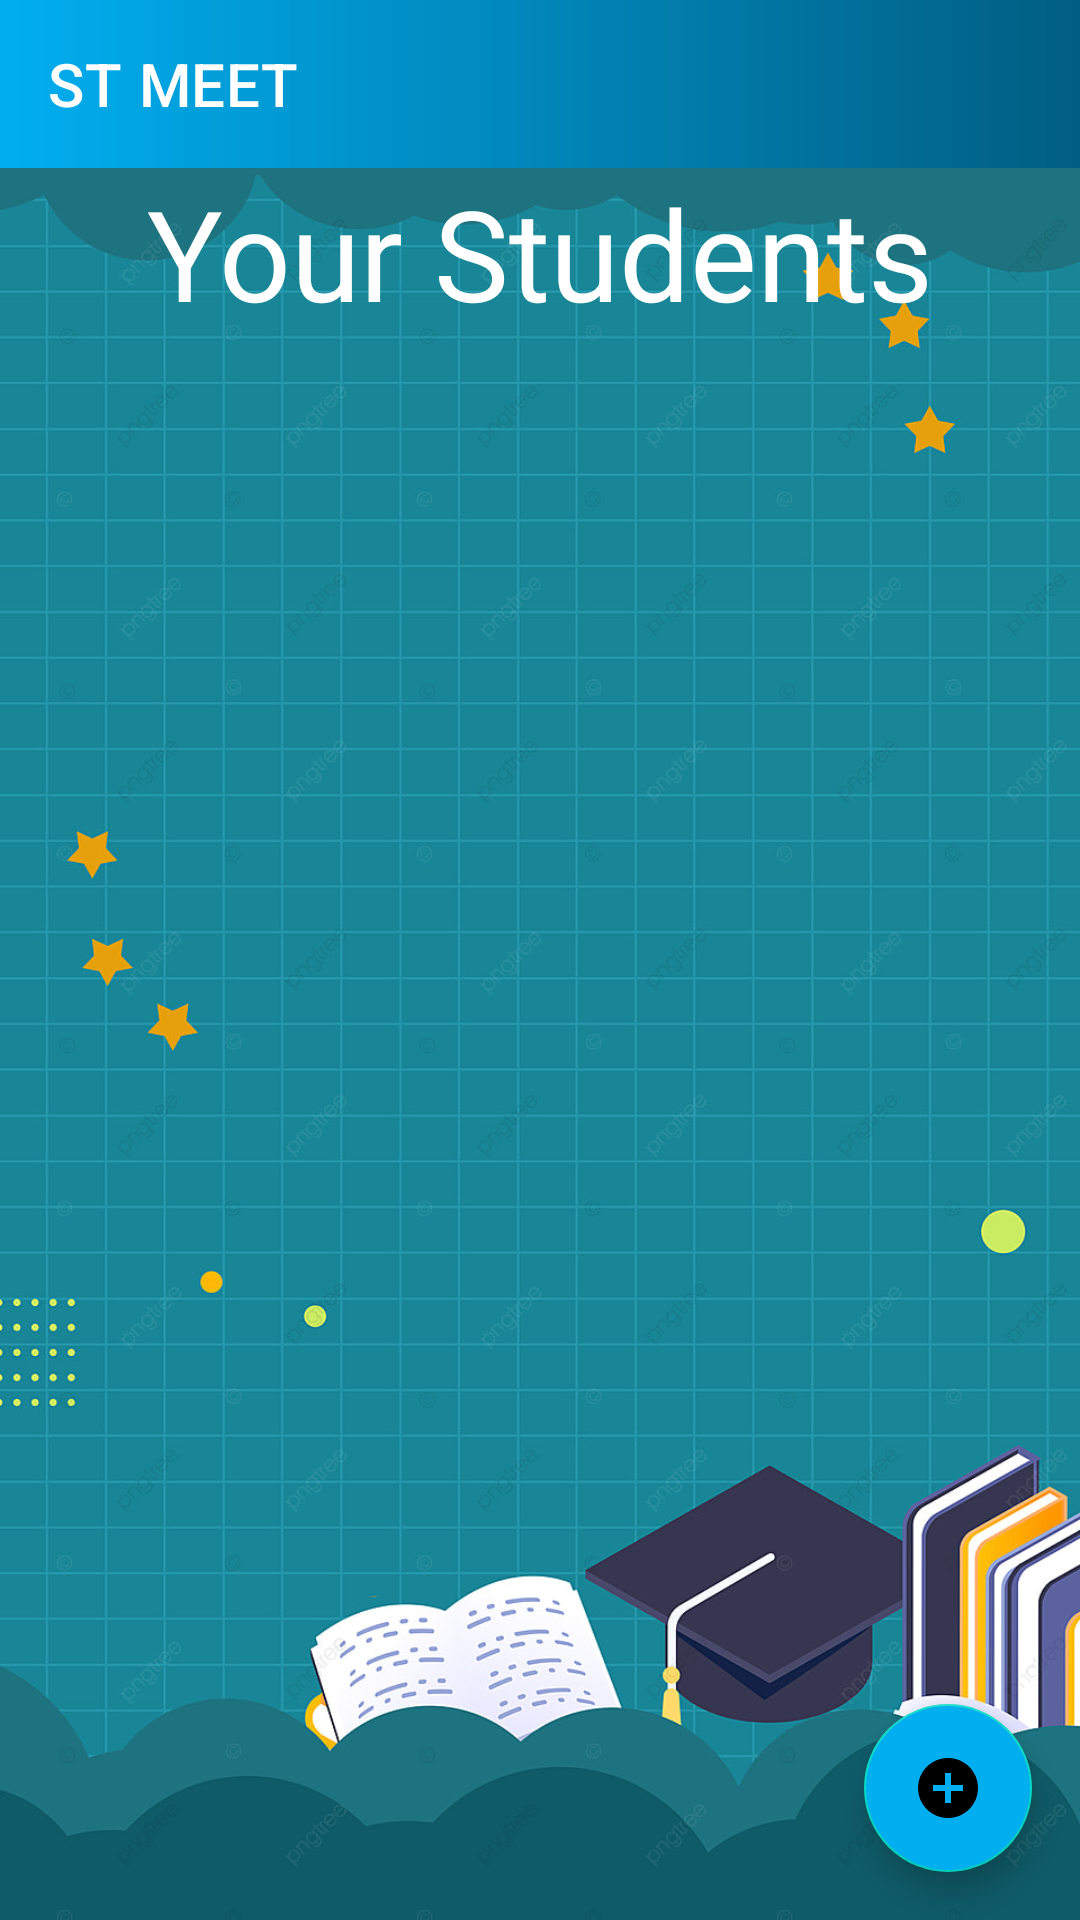

Named icons in this screenshot (1080*1920) and their centers, (x,y):
add circle: (948,1788)
